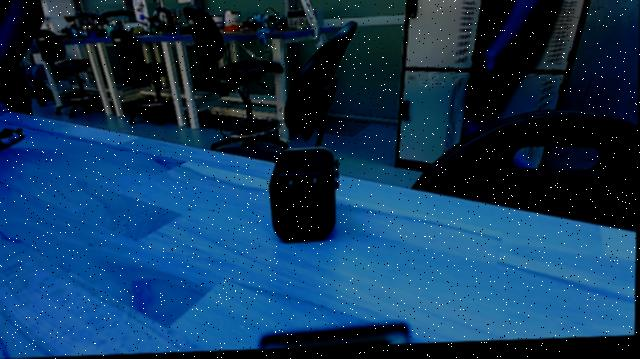adapter: (264, 151, 341, 249)
